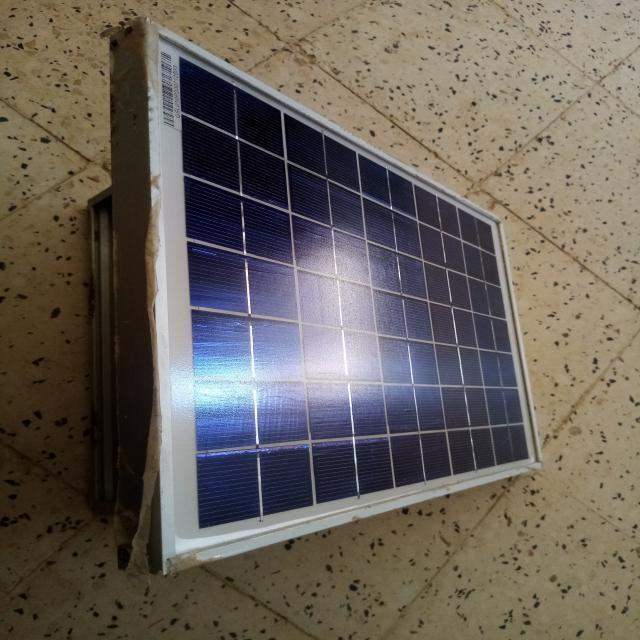Normal Solar Panel: (142, 20, 537, 572)
